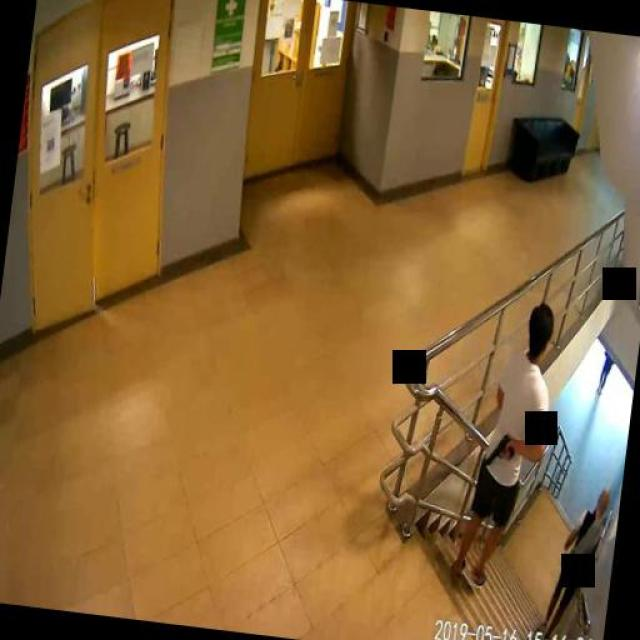gun: (484, 432, 515, 468)
